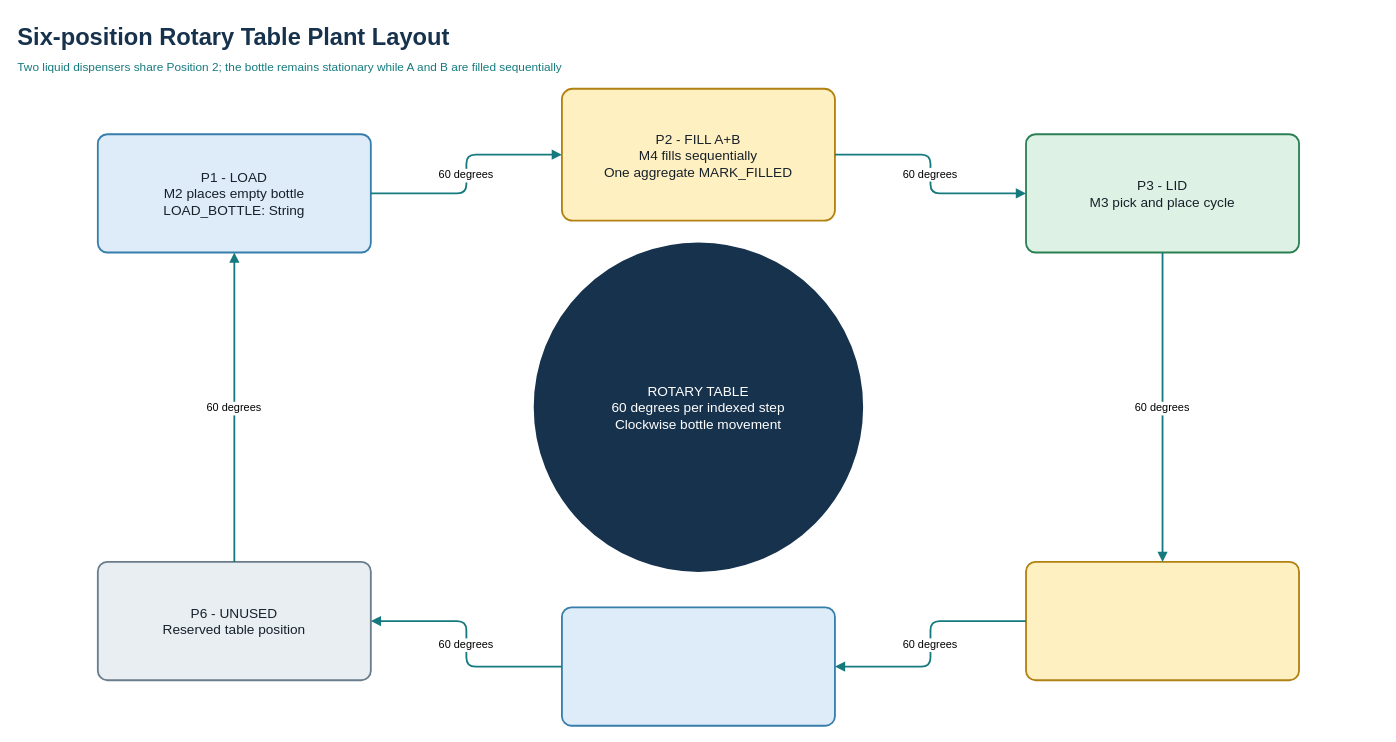
The diagram is 1396 pixels wide and 742 high, and some of its shapes have lost their labels. The centre of each missing label's shape, as x and y in pixels:
"P4 - CAP M4 tightens cap MARK_CAPPED" goes at [1162,621].
"P5 - UNLOAD M2 accepts finished bottle REMOVE_BOTTLE" goes at [698,666].
